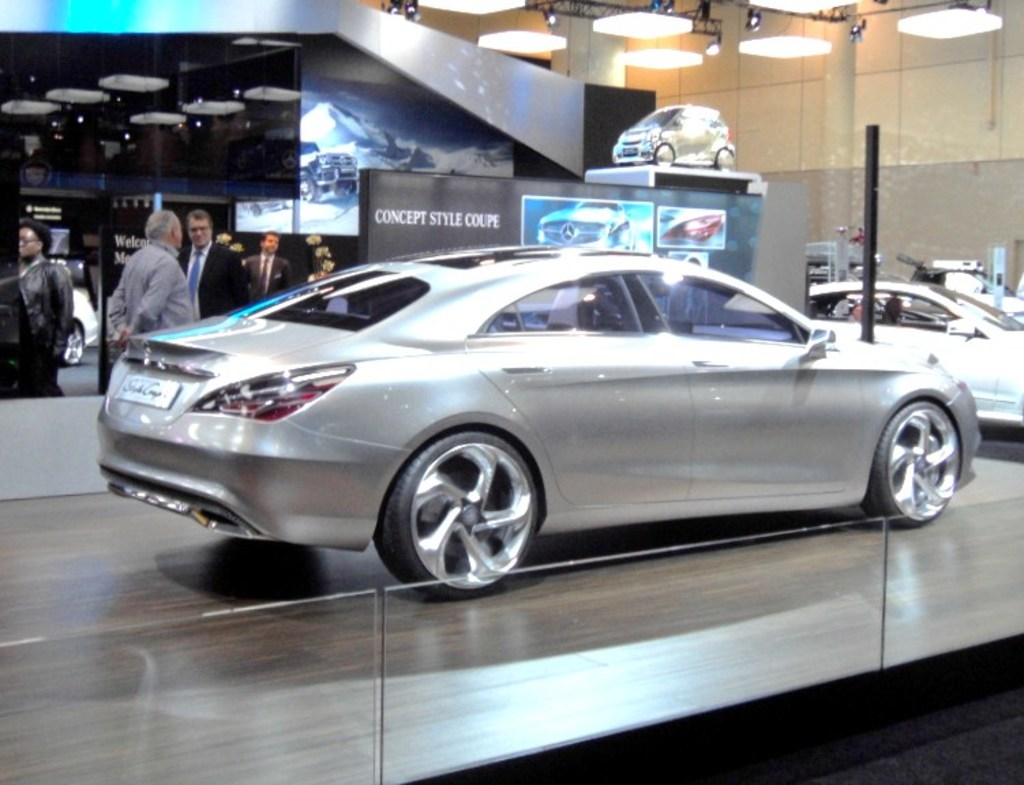Car: (94, 244, 982, 597), (808, 280, 1024, 428), (612, 103, 737, 170), (539, 201, 631, 248), (59, 282, 101, 368)
